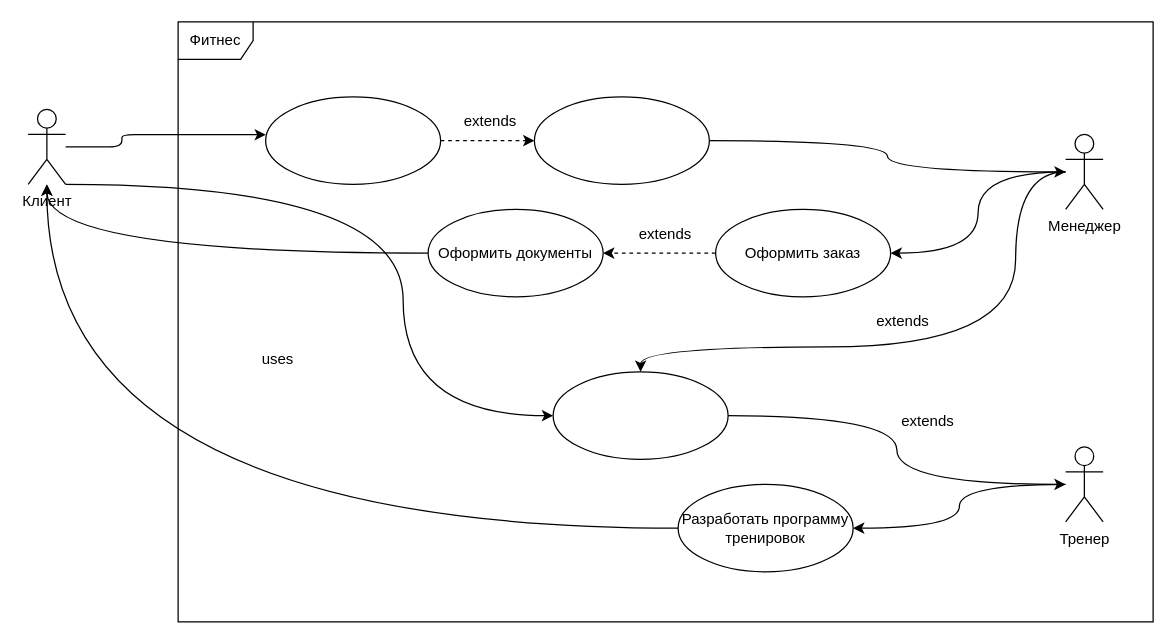
This 1175x644 diagram has some shape labels left out. Here are the shapes that lost their labels. From the top down, the box of each, then its label:
(264, 96, 441, 184): Приобрести карту
(533, 96, 709, 184): Продлить карту
(552, 371, 728, 459): Записаться на занятия
